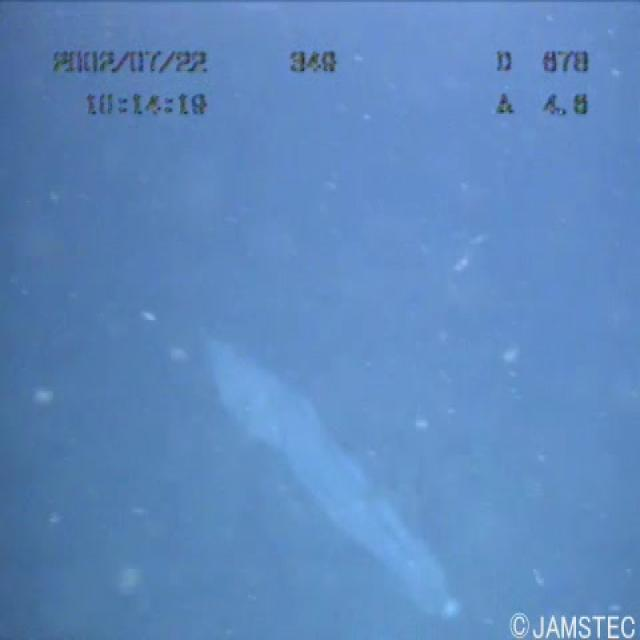plastic: (167, 311, 473, 619)
